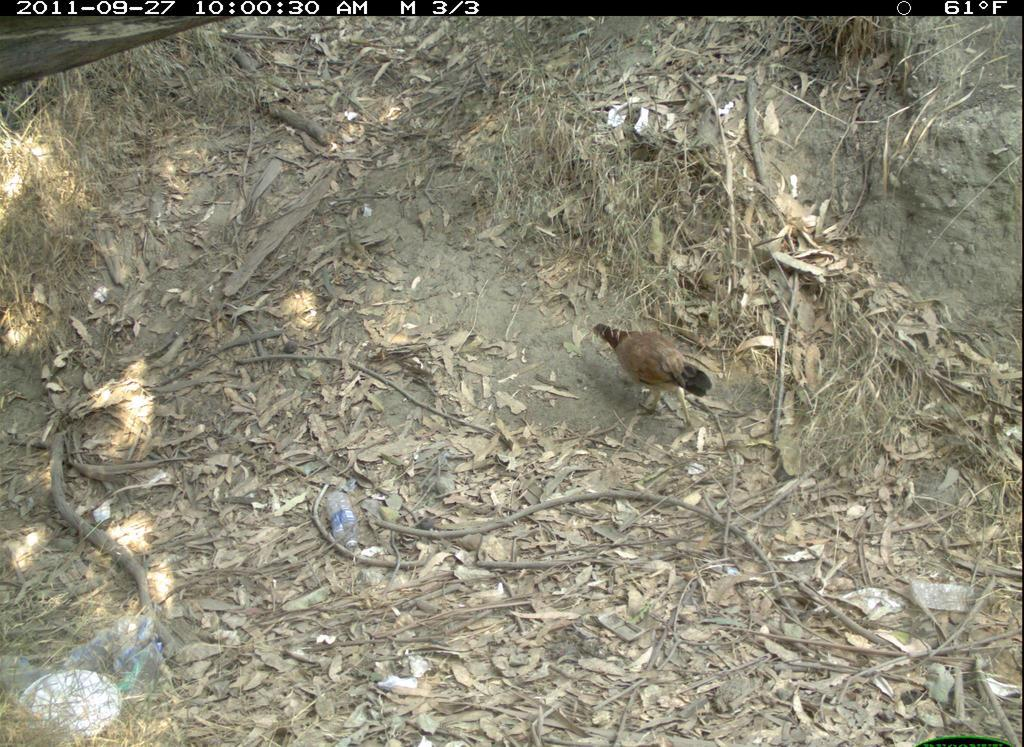bird: (578, 295, 713, 424)
